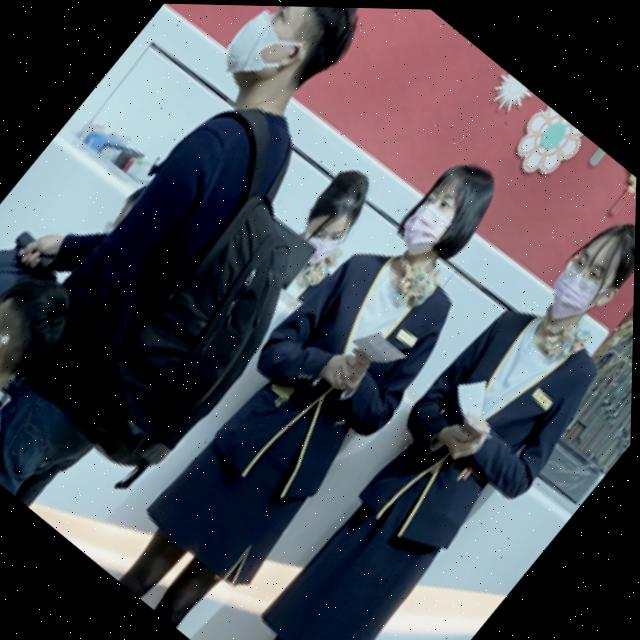Mask: (206, 4, 317, 107), (531, 245, 623, 341), (391, 178, 470, 262), (288, 191, 362, 268), (0, 310, 18, 389)
